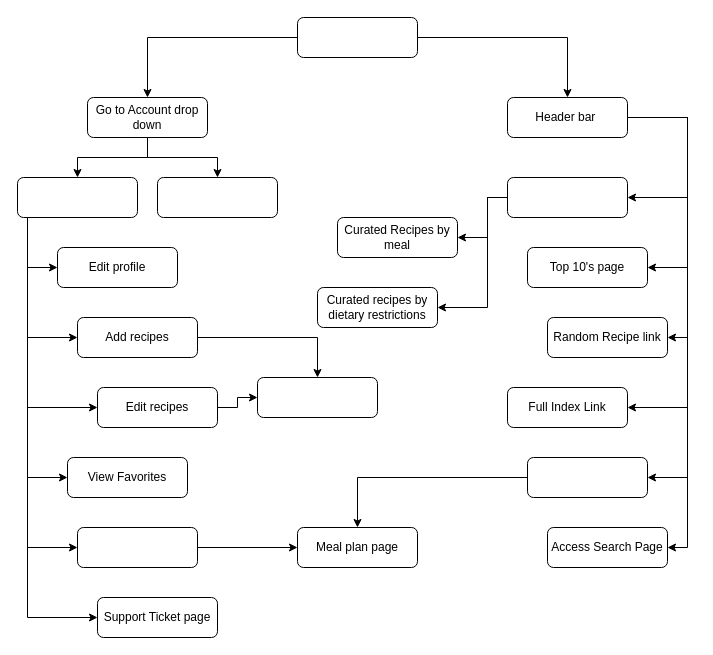
Some shapes in this 713 by 655 pixel diagram are drawn without their labels. The shapes that lost their labels are listed below. From the top down, each one's centre as x and y in pixels, then its label:
[357,37]: User enters main page
[77,197]: Go to profile page
[217,197]: Sign out
[567,197]: Browse Option
[317,397]: Recipe edits page
[587,477]: Meal plan Link
[137,547]: View Meal plans
